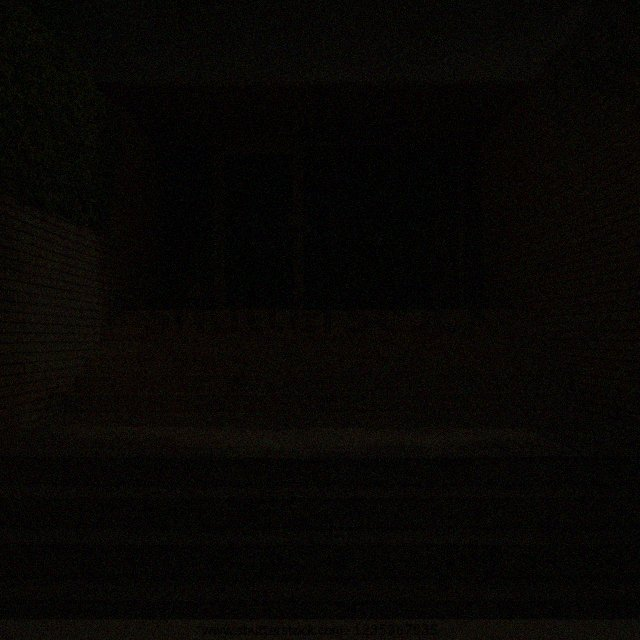stair: (0, 311, 639, 618), (66, 310, 581, 412)
